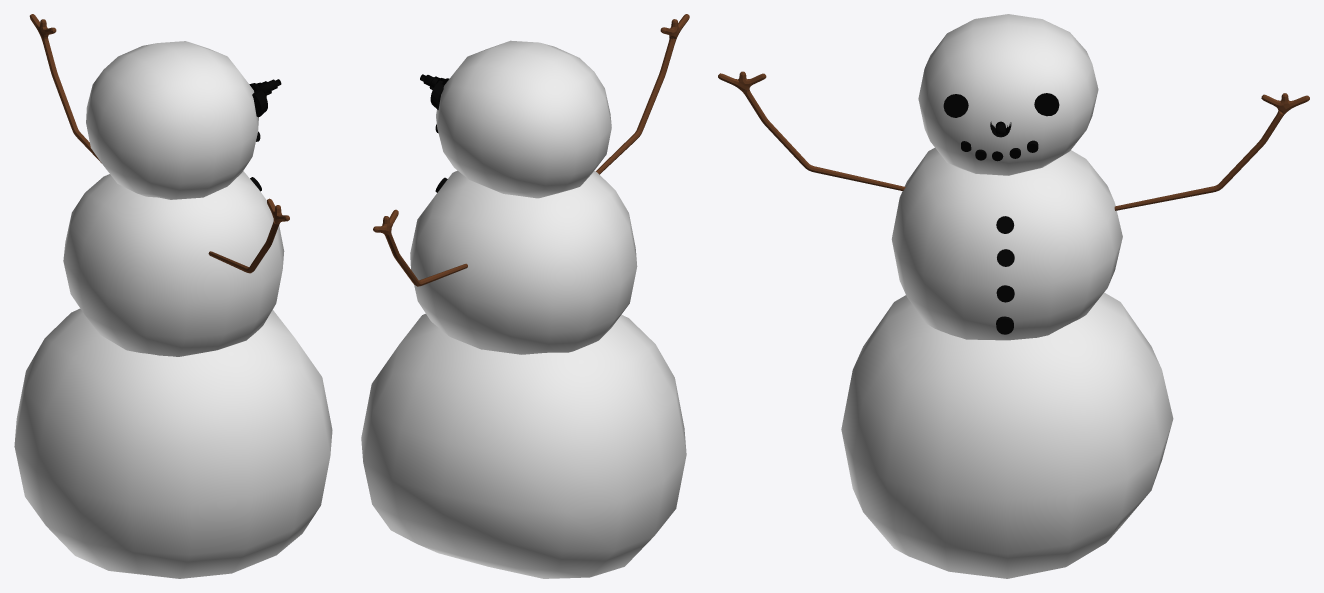
The model's file is snowMan.fbx.
3 views of the same model, side by side, from view 1: azimuth 30°, elevation 25°; view 2: azimuth 150°, elevation 25°; view 3: azimuth 270°, elevation 25° (orthographic). The views are drawn at different scales.
Parts seen in each view (by area): view 1: Cube, Cube.001, Cube.002, Kostka.001, Kostka.004; view 2: Cube, Cube.001, Cube.002, Kostka.004, Kostka.001; view 3: Cube, Cube.001, Cube.002, Walec.002, Kostka.001, Kostka.004.
Part boxes in pixels (x1,y1,x2,y2): Cube: (14,308,332,578); Cube.001: (63,171,284,356); Cube.002: (86,41,258,199); Kostka.001: (29,14,101,163); Kostka.004: (208,198,289,273); Cube: (361,313,686,578); Cube.001: (410,170,637,354); Cube.002: (436,40,611,198); Kostka.004: (596,14,689,174); Kostka.001: (373,209,467,286); Cube: (841,292,1173,578); Cube.001: (891,148,1122,340); Cube.002: (918,14,1098,175); Walec.002: (961,121,1038,334); Kostka.001: (1114,93,1309,210); Kostka.004: (718,71,905,190).
Size of the model in its own units: 168 by 288 by 299.
